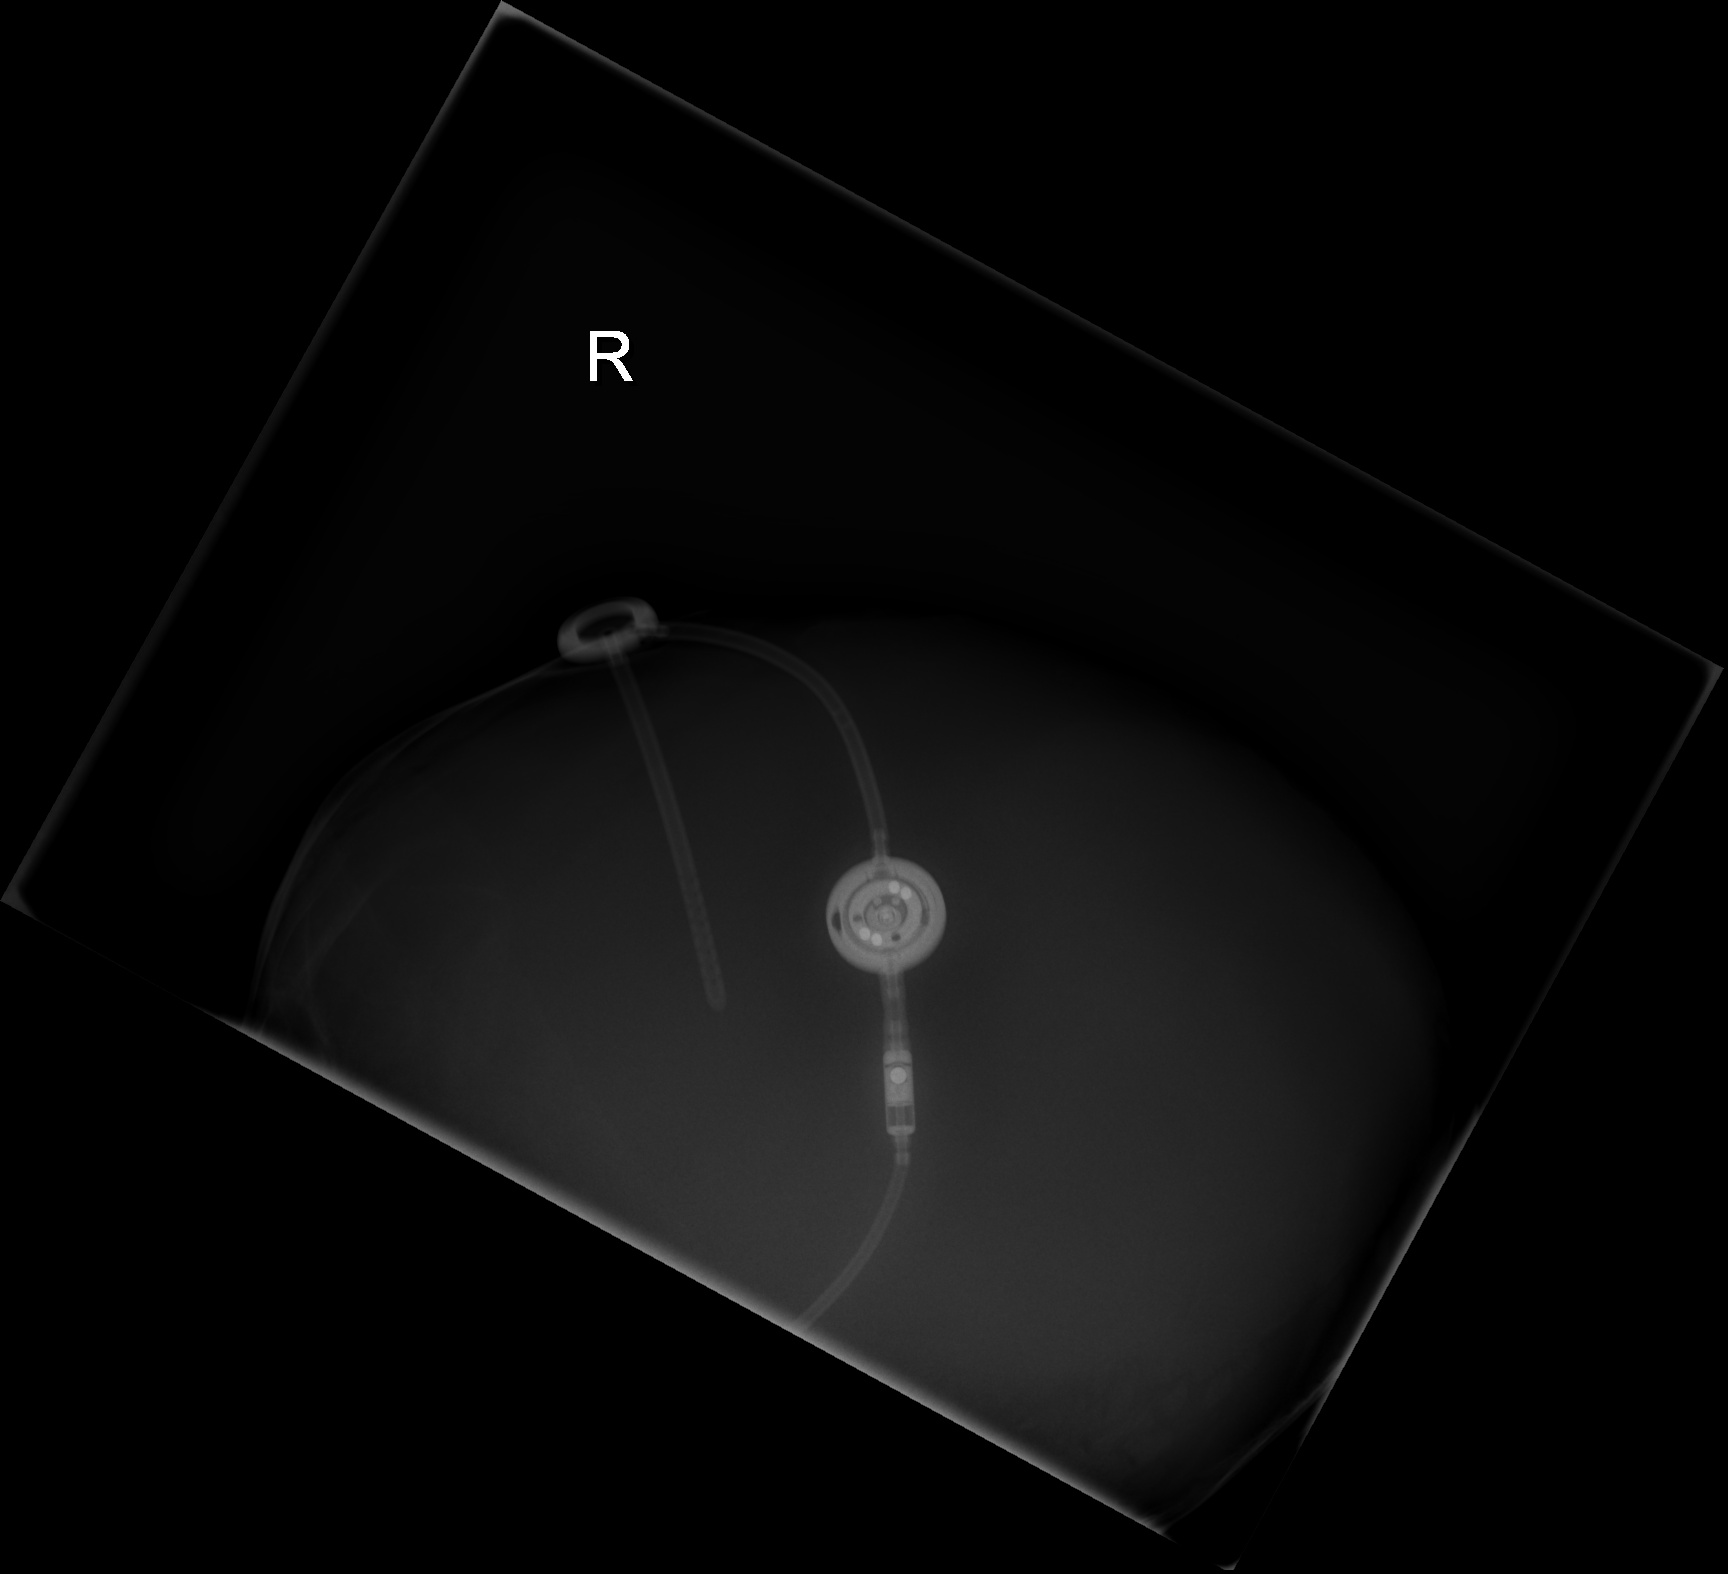proGAV 2.0: (819, 852, 951, 980)
proGAV Gravitationseinheit: (876, 1040, 926, 1156)
